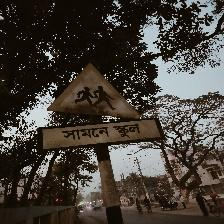School-in-front: (40, 62, 161, 152)
